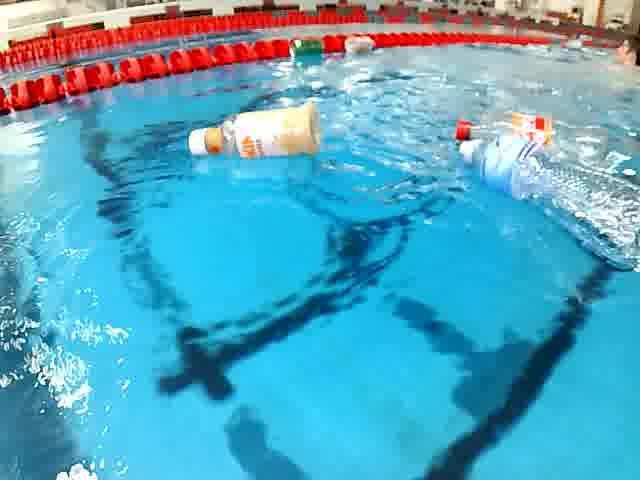Bottle: (445, 128, 640, 282), (452, 106, 630, 168), (177, 102, 325, 172), (344, 32, 382, 58)
Can: (286, 35, 328, 65)
